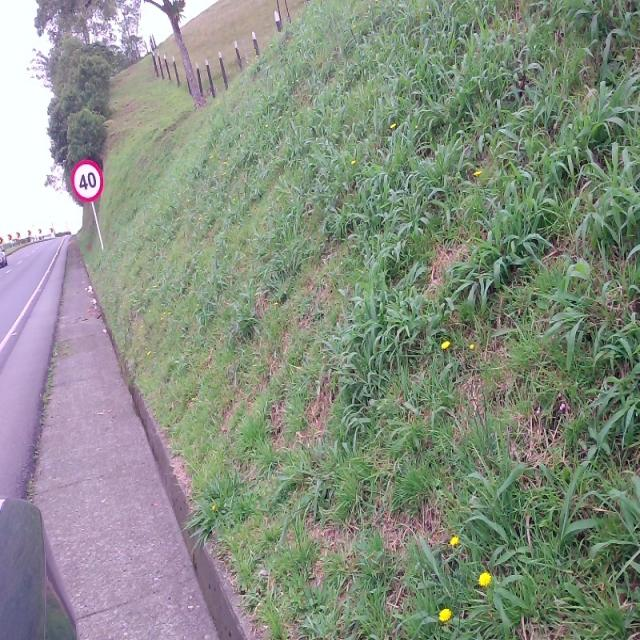DITCH: (12, 89, 638, 638), (51, 167, 638, 638), (22, 232, 255, 638)
